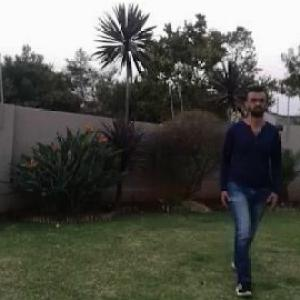follow: (220, 91, 270, 267)
